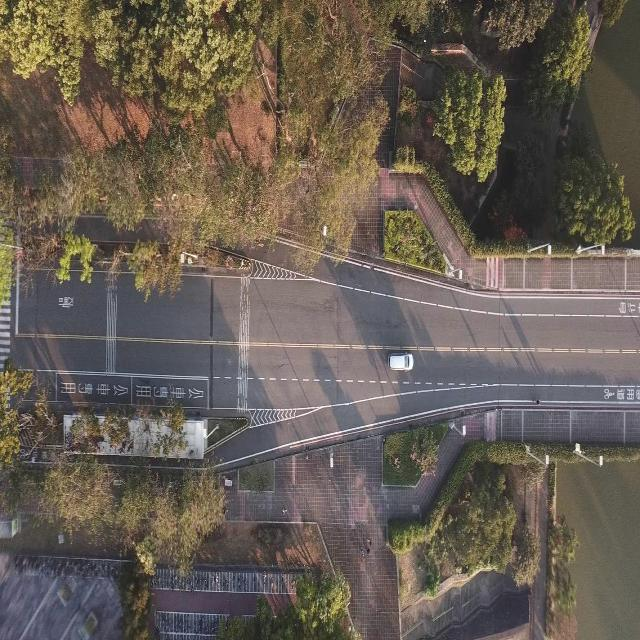car: (388, 350, 413, 370)
